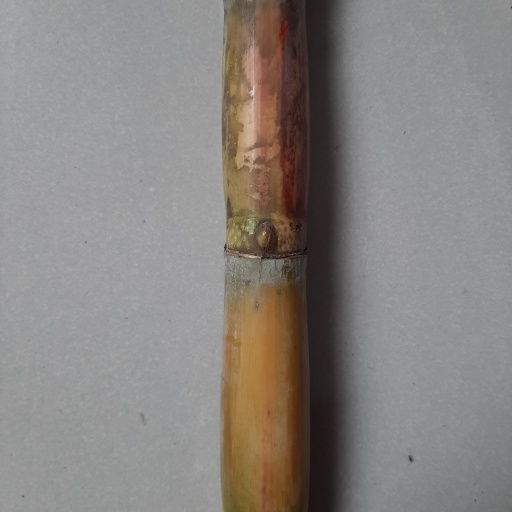Bud: (254, 221, 279, 259)
